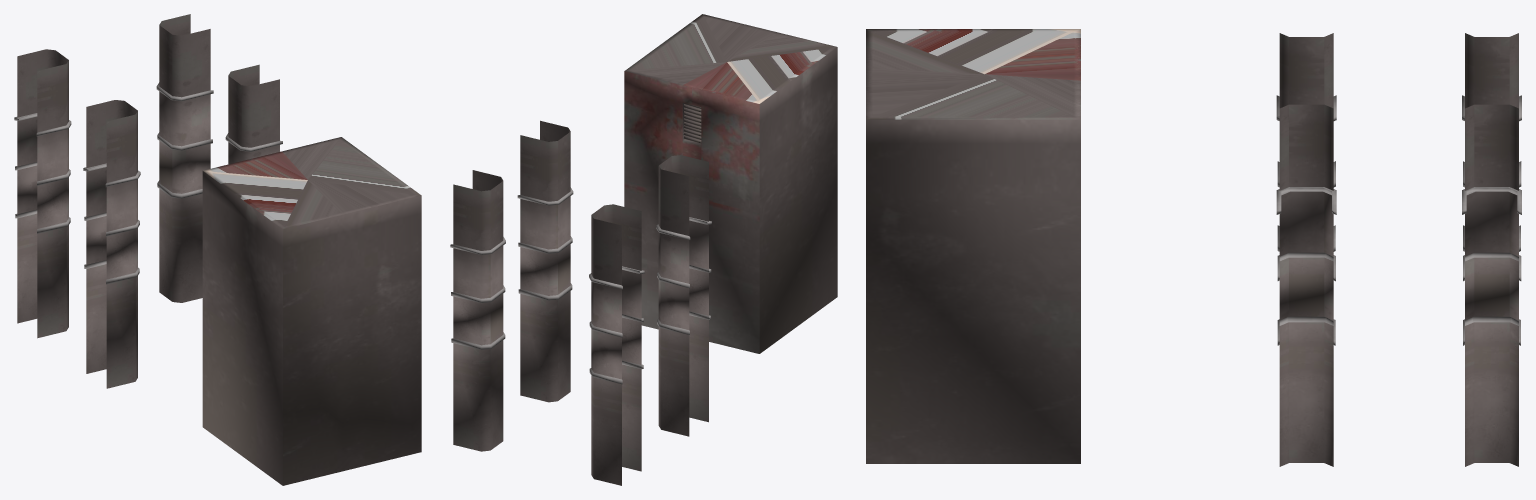
Rendered from Arena.fbx.
The picture shows the model from 3 angles, left to right: view 1: azimuth 30°, elevation 25°; view 2: azimuth 150°, elevation 25°; view 3: azimuth 270°, elevation 25°; orthographic projection. The views are drawn at different scales.
Visible parts, largest first — view 1: Arena beta; view 2: Arena beta, Portao; view 3: Arena beta.
Part boxes in pixels (<box>): Arena beta: <box>14,14,421,485</box>; Arena beta: <box>450,14,837,485</box>; Portao: <box>683,103,701,143</box>; Arena beta: <box>866,29,1521,466</box>.
Bounding box in the file's own units: 7518 × 10841 × 17976.
